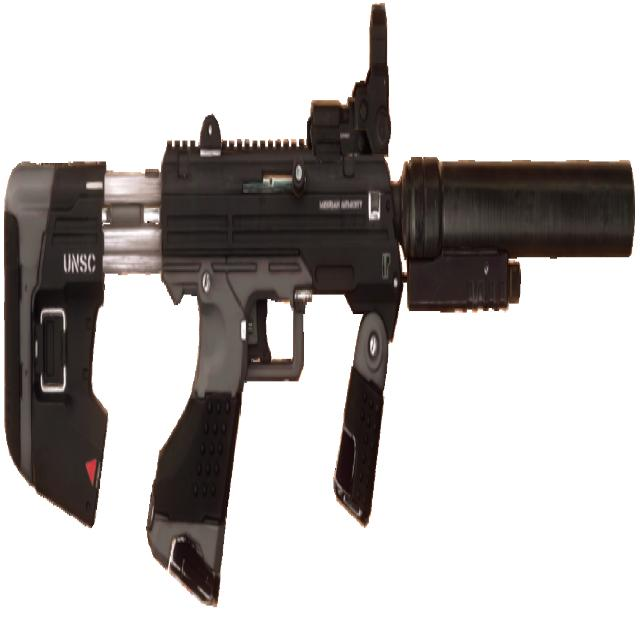Weapon: (4, 4, 634, 604)
